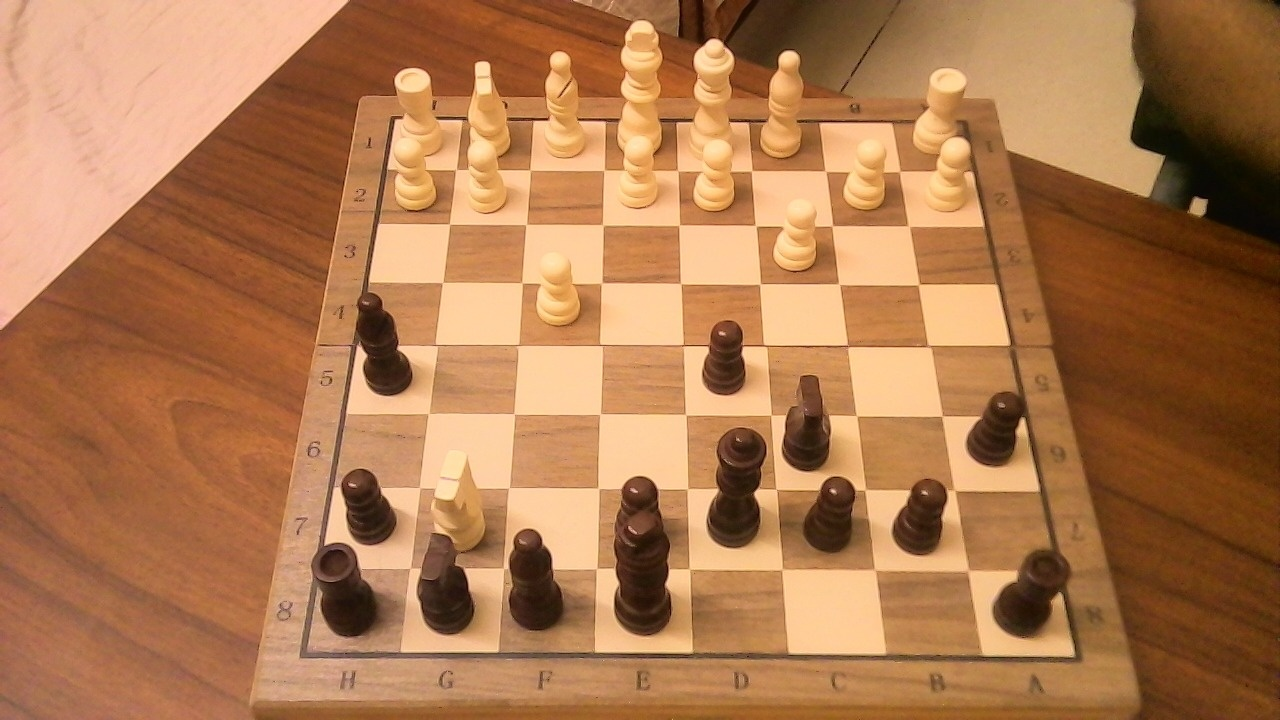B: (536, 40, 594, 163), (756, 39, 814, 162)
K: (610, 10, 672, 160)
N: (422, 438, 495, 553), (460, 50, 519, 162)
P: (918, 128, 980, 216), (527, 242, 588, 330), (766, 188, 827, 275), (609, 125, 667, 214), (836, 129, 897, 213), (686, 129, 743, 216), (385, 128, 443, 213), (458, 130, 514, 218)
Q: (682, 28, 745, 167)
R: (905, 57, 974, 160), (390, 58, 450, 160)
b: (502, 517, 578, 635), (352, 281, 423, 400)
k: (605, 505, 681, 641)
n: (410, 519, 487, 638), (779, 361, 844, 473)
p: (605, 464, 676, 564), (886, 467, 961, 561), (961, 379, 1035, 470), (332, 457, 406, 547), (796, 464, 866, 555), (694, 309, 757, 400)
q: (699, 413, 780, 552)
r: (988, 536, 1080, 642), (309, 531, 392, 639)
